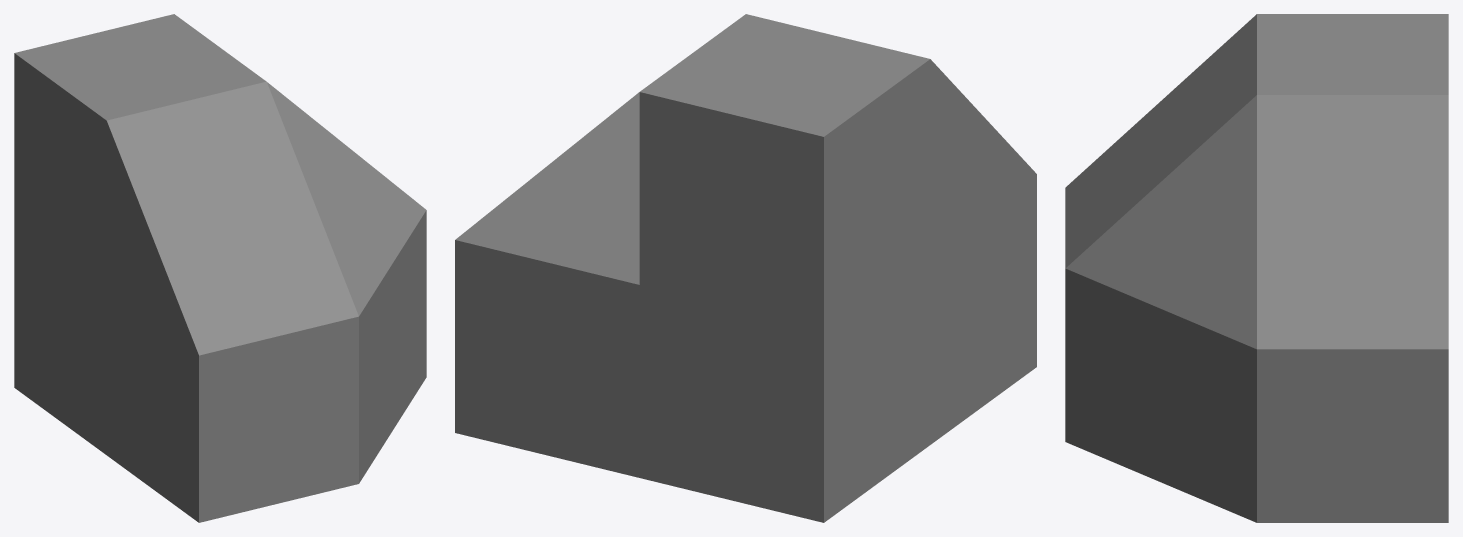
The model's file is r5c6_body_grey.gltf.
3 views of the same model, side by side, from view 1: azimuth 30°, elevation 25°; view 2: azimuth 150°, elevation 25°; view 3: azimuth 270°, elevation 25° (orthographic). The views are drawn at different scales.
Visible parts, largest first — view 1: r5c6_body_grey; view 2: r5c6_body_grey; view 3: r5c6_body_grey.
Part boxes in pixels (x1,y1,x2,y2): r5c6_body_grey: (14, 14, 426, 522); r5c6_body_grey: (455, 14, 1036, 522); r5c6_body_grey: (1065, 14, 1448, 522).
Size of what is drawn, in the model's own units: 2 by 2 by 2.
1 material, 1 textured.
